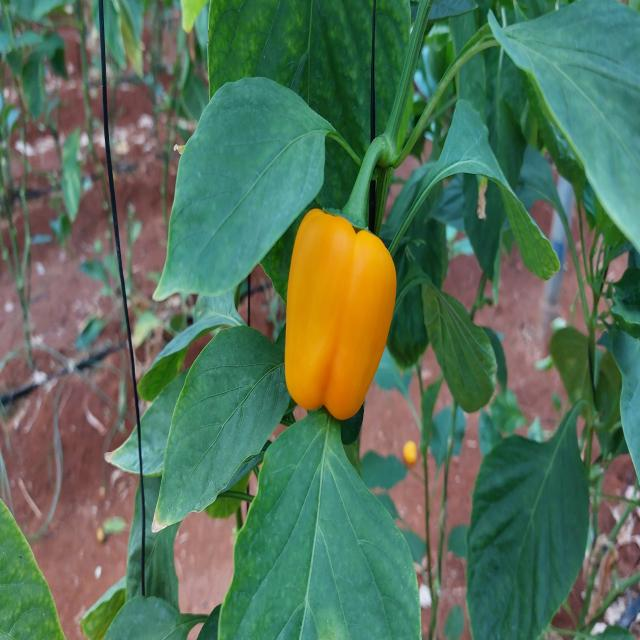Yellow-Ready-to-Harvest: (284, 208, 398, 419)
